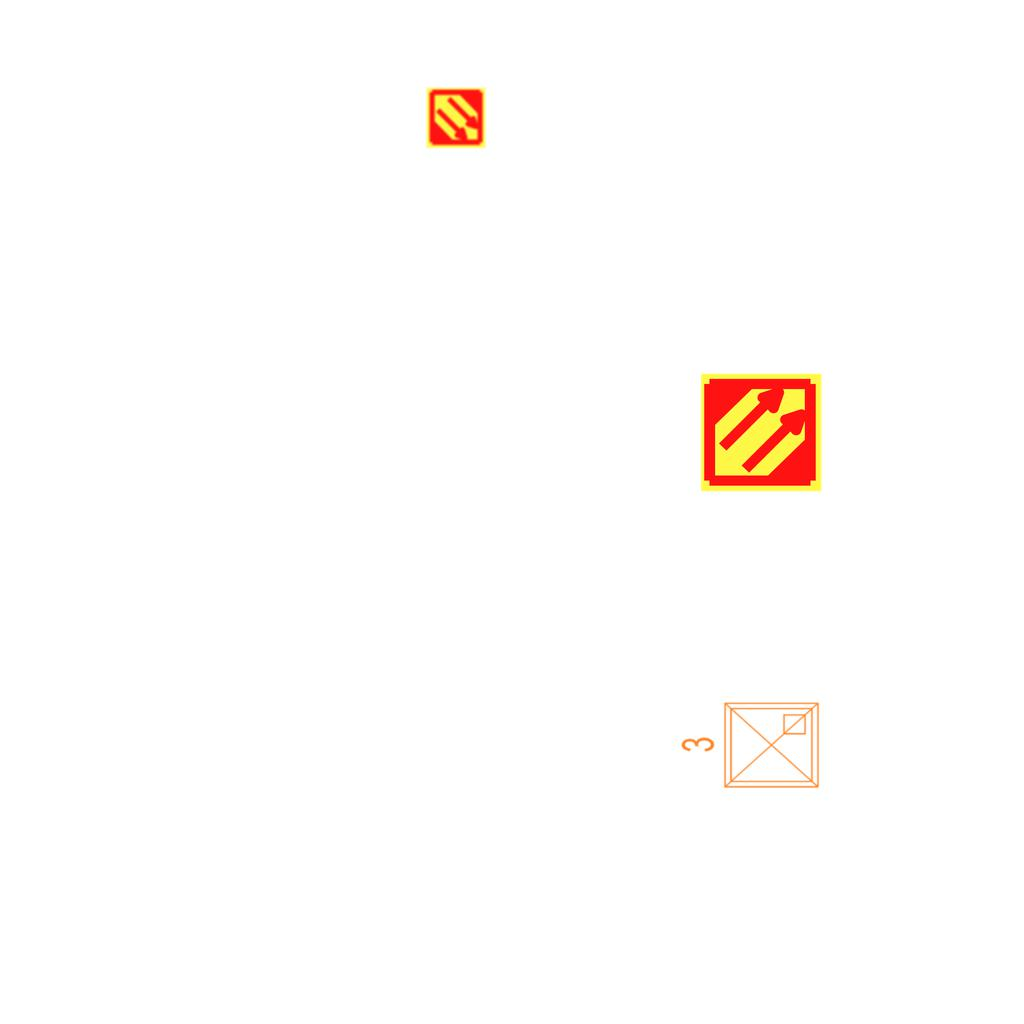ASR_Ansaugrauchmelder: (699, 370, 824, 495), (425, 87, 487, 149)
Einbaudownlights_LED_Konferenzraeume: (676, 695, 826, 799)
